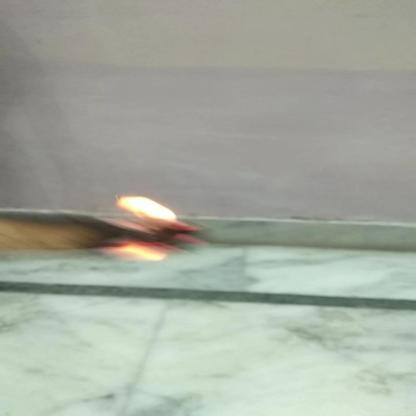fire: (98, 195, 194, 264)
